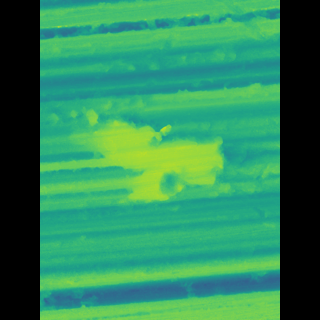Loch: (79, 88, 216, 210)
